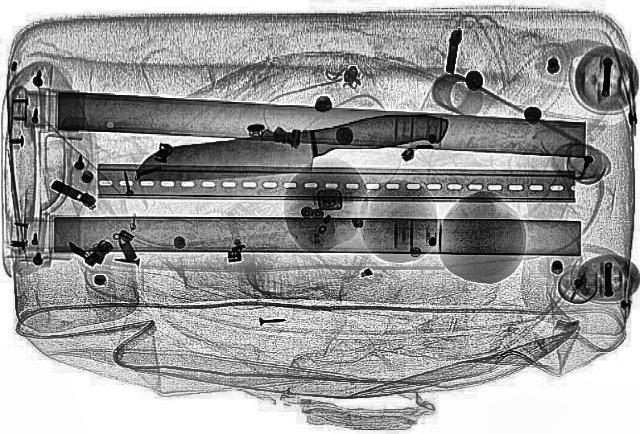Knife: (128, 108, 456, 190)
